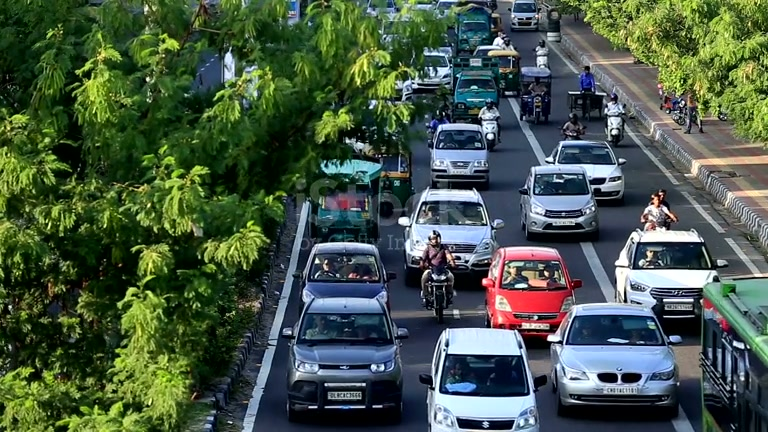bus: (307, 157, 384, 243)
car: (283, 295, 409, 424), (547, 302, 682, 420), (417, 326, 547, 430), (613, 228, 730, 327), (400, 187, 505, 287), (481, 245, 583, 340), (297, 241, 397, 315), (517, 164, 601, 241), (544, 140, 627, 204), (428, 123, 492, 189), (451, 70, 501, 123), (509, 1, 540, 31)
motorcycle: (422, 271, 454, 323), (605, 110, 627, 146)
pedestrian: (420, 232, 457, 305), (640, 189, 679, 231), (604, 91, 627, 140), (478, 100, 501, 149), (504, 265, 531, 289), (317, 257, 341, 279), (579, 66, 596, 97)
truck: (697, 276, 768, 430), (469, 46, 523, 97)
